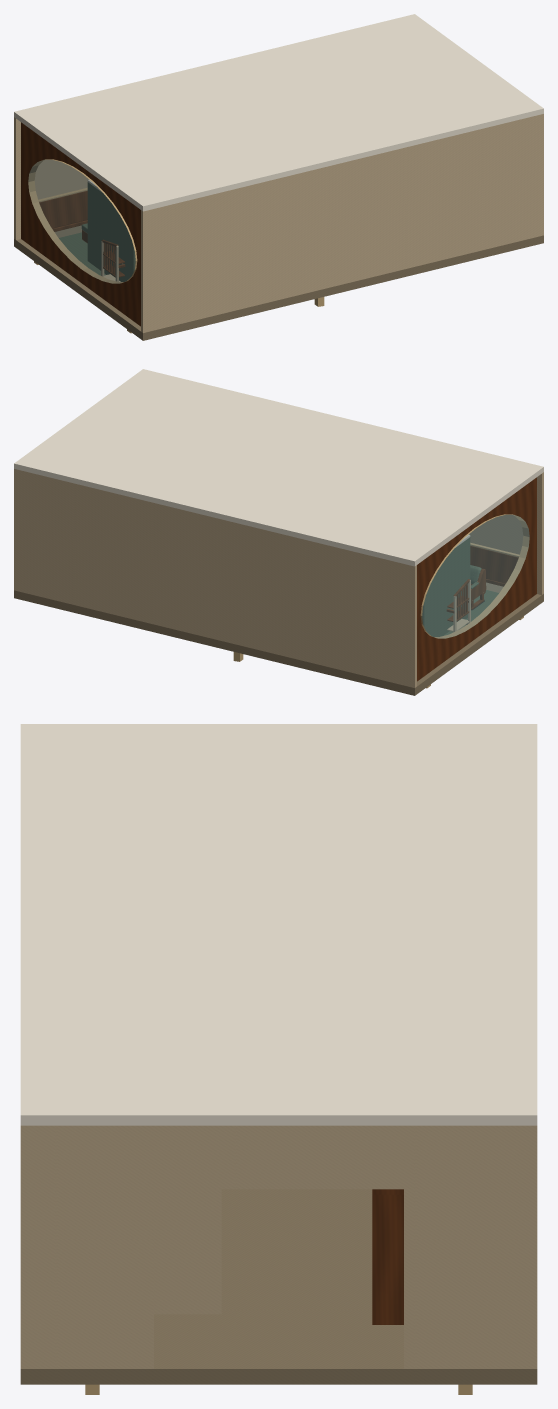
File: NG446_AtriumInterior_r001.glb
3 renders of one model, top to bottom at view 1: azimuth 30°, elevation 25°; view 2: azimuth 150°, elevation 25°; view 3: azimuth 270°, elevation 25°, orthographic. The views are drawn at different scales.
Visible parts, largest first — view 1: NG446_RuntimeBatch_001, NG446_OvalAtriumGlass, NG446_RuntimeBatch_002, NG446_RoomFloor, NG446_RuntimeBatch_006, NG446_RuntimeBatch_004, NGA_446_South_LowPanel, NGA_446_OutlookFloorInlay, NG446_RuntimeBatch_017; view 2: NG446_RuntimeBatch_001, NG446_OvalAtriumGlass, NG446_RuntimeBatch_002, NG446_RoomFloor, NG446_RuntimeBatch_006, NG446_RuntimeBatch_004, NGA_446_North_LowPanel, NG446_RuntimeBatch_017; view 3: NG446_RuntimeBatch_001, NG446_RoomFloor, NG446_RuntimeBatch_002.
Part boxes in pixels (bbox=[...]): NG446_RuntimeBatch_001: bbox=[14, 14, 543, 332]; NG446_OvalAtriumGlass: bbox=[28, 160, 135, 283]; NG446_RuntimeBatch_002: bbox=[21, 122, 140, 326]; NG446_RoomFloor: bbox=[14, 225, 543, 340]; NG446_RuntimeBatch_006: bbox=[87, 182, 135, 281]; NG446_RuntimeBatch_004: bbox=[28, 159, 324, 333]; NGA_446_South_LowPanel: bbox=[39, 191, 87, 228]; NGA_446_OutlookFloorInlay: bbox=[59, 232, 105, 275]; NG446_RuntimeBatch_017: bbox=[101, 239, 125, 277]; NG446_RuntimeBatch_001: bbox=[14, 369, 543, 687]; NG446_OvalAtriumGlass: bbox=[422, 515, 529, 638]; NG446_RuntimeBatch_002: bbox=[417, 477, 536, 681]; NG446_RoomFloor: bbox=[14, 582, 543, 695]; NG446_RuntimeBatch_006: bbox=[422, 537, 470, 636]; NG446_RuntimeBatch_004: bbox=[233, 514, 529, 688]; NGA_446_North_LowPanel: bbox=[470, 546, 518, 583]; NG446_RuntimeBatch_017: bbox=[446, 579, 469, 621]; NG446_RuntimeBatch_001: bbox=[20, 724, 537, 1368]; NG446_RoomFloor: bbox=[20, 1189, 537, 1384]; NG446_RuntimeBatch_002: bbox=[372, 1189, 403, 1324].
Size of the model in its own units: 12.9 by 4.91 by 7.2.
36 materials, 20 textured.
